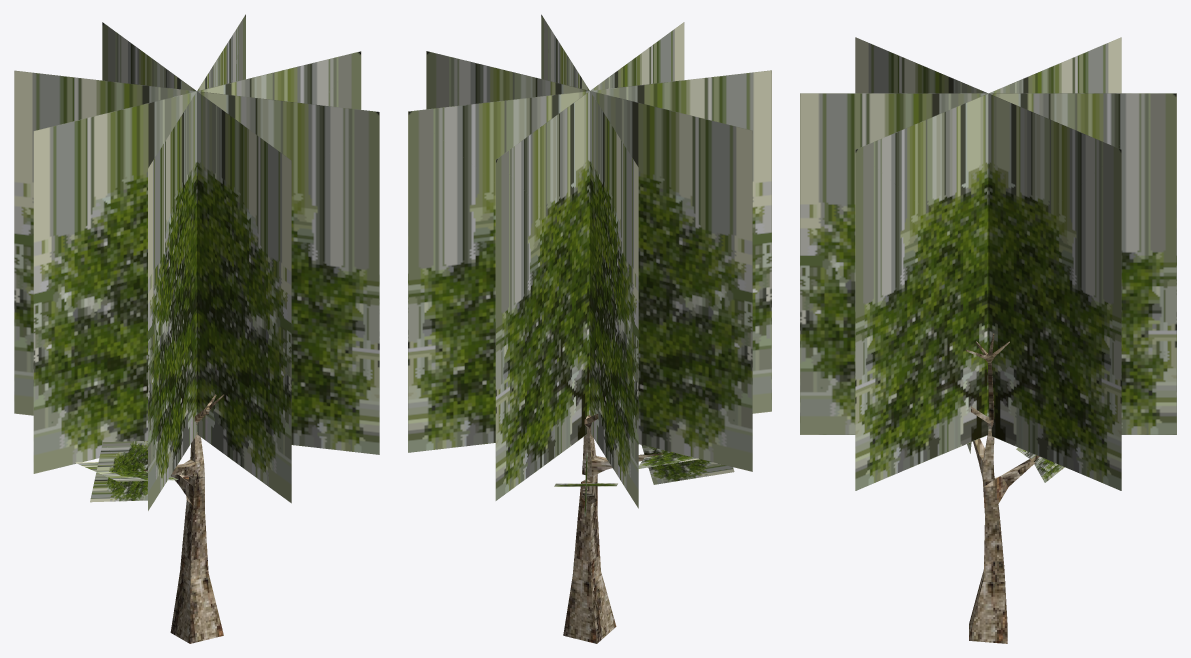
The model's file is TST_Tree_1.glb.
3 views of the same model, side by side, from view 1: azimuth 30°, elevation 25°; view 2: azimuth 150°, elevation 25°; view 3: azimuth 270°, elevation 25° (orthographic).
Parts seen in each view (by area): view 1: Leaves.M1, Leaves.M2, Leaves.M3, Leaves.M4, Tree, Leaves.B02, Leaves.B01; view 2: Leaves.M1, Leaves.M4, Leaves.M3, Leaves.M2, Tree, Leaves.B02, Leaves.B01; view 3: Leaves.M2, Leaves.M4, Leaves.M3, Tree.
Part boxes in pixels (<box>): Leaves.M1: <box>33,51,361,473</box>; Leaves.M2: <box>14,70,379,454</box>; Leaves.M3: <box>102,22,291,503</box>; Leaves.M4: <box>148,14,245,510</box>; Tree: <box>144,394,223,643</box>; Leaves.B02: <box>90,441,147,502</box>; Leaves.B01: <box>75,462,178,481</box>; Leaves.M1: <box>426,51,752,471</box>; Leaves.M4: <box>408,70,771,452</box>; Leaves.M3: <box>495,22,684,500</box>; Leaves.M2: <box>541,14,638,508</box>; Tree: <box>563,414,662,643</box>; Leaves.B02: <box>641,445,734,484</box>; Leaves.B01: <box>638,452,699,468</box>; Leaves.M2: <box>855,37,1121,490</box>; Leaves.M4: <box>855,37,1121,490</box>; Leaves.M3: <box>800,93,1176,434</box>; Tree: <box>966,333,1039,643</box>.
Size of the model in its own units: 6 by 9.53 by 6.
Materials: 2 (2 with a texture image).
